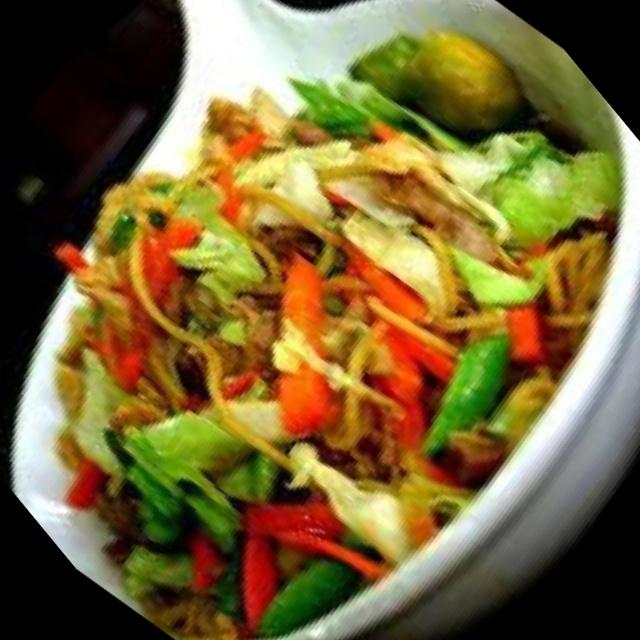pancit bihon: (66, 113, 609, 639)
